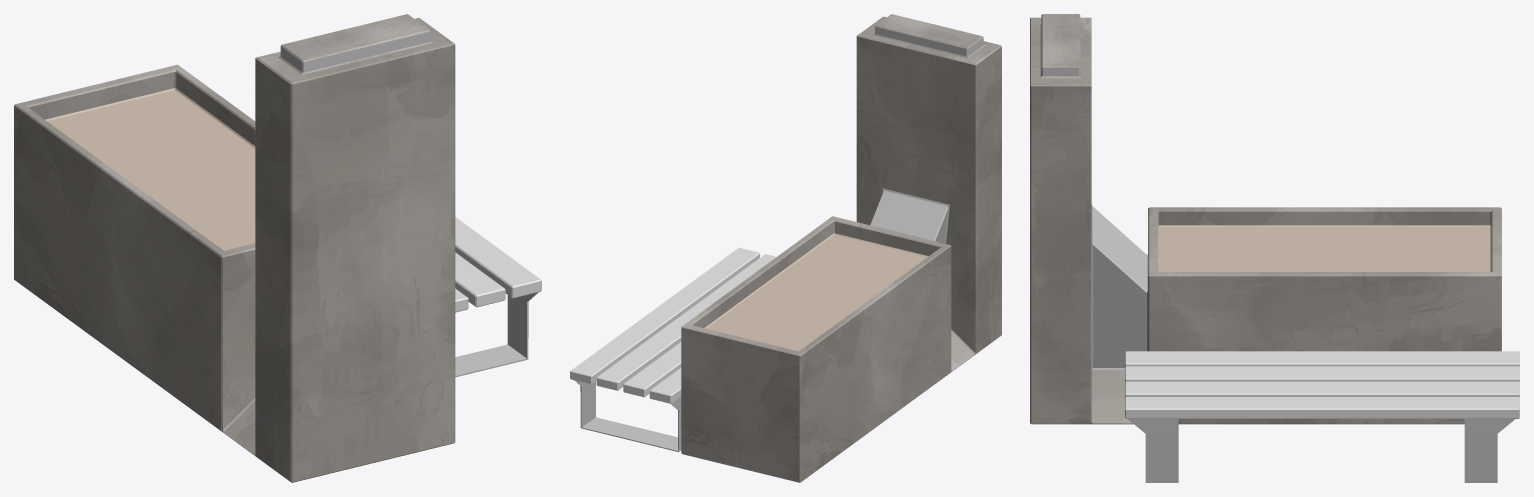
The model's file is MESH_BenchModule2.fbx.
The picture shows the model from 3 angles, left to right: view 1: azimuth 30°, elevation 25°; view 2: azimuth 150°, elevation 25°; view 3: azimuth 270°, elevation 25°; orthographic projection. The views are drawn at different scales.
Visible parts, largest first — view 1: Cube.014, Bench; view 2: Cube.014, Bench; view 3: Cube.014, Bench.
Boxes of the visible parts, left/top/right/bottom form: Cube.014: left=14, top=14, right=455, bottom=482; Bench: left=455, top=217, right=541, bottom=377; Cube.014: left=681, top=14, right=1001, bottom=482; Bench: left=570, top=247, right=776, bottom=451; Cube.014: left=1030, top=14, right=1501, bottom=424; Bench: left=1125, top=351, right=1519, bottom=482.
Size of the model in its own units: 199 by 256 by 324.
